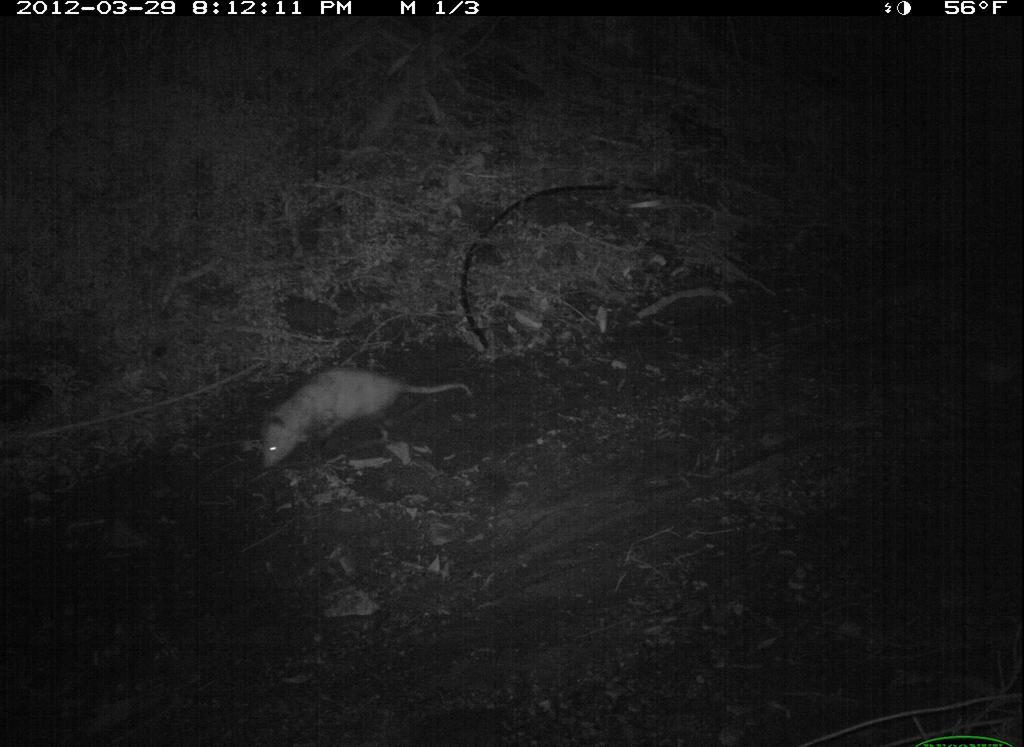opossum: (205, 341, 492, 492)
